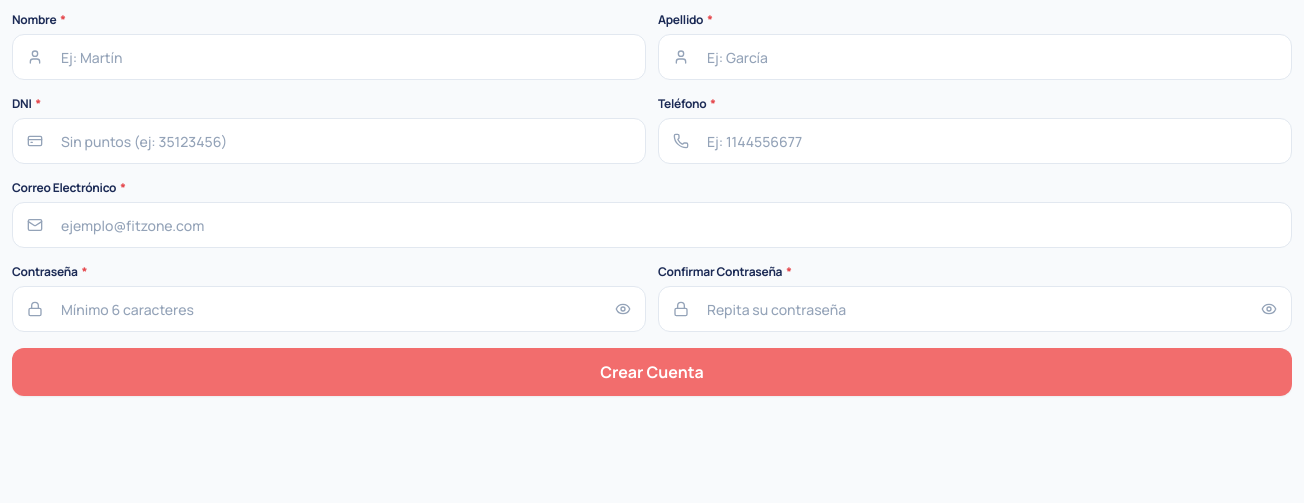
Test: SCRUM-89: RegistroForm Component › muestra errores ante campos obligatorios vacíos
This screenshot has width=1304, height=503.
Click the button "Crear Cuenta". click: click(652, 372)
box: [12, 348, 1292, 396]
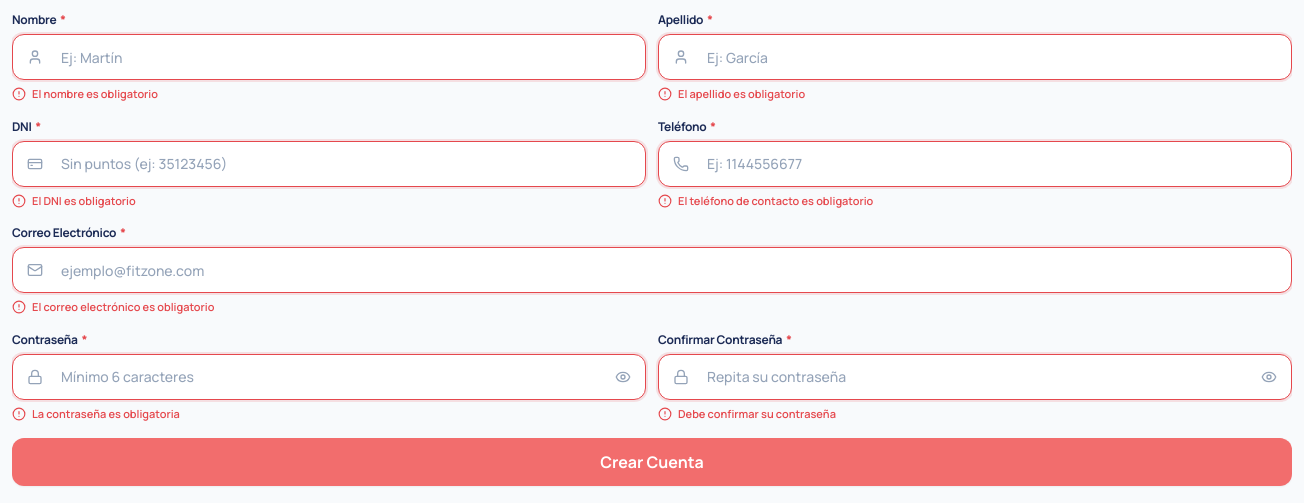
Result: the text "El nombre es obligatorio" is shown at [32, 86, 158, 102]
Result: the text "El apellido es obligatorio" is shown at [678, 86, 805, 102]
Result: the text "El DNI es obligatorio" is shown at [32, 192, 136, 209]
